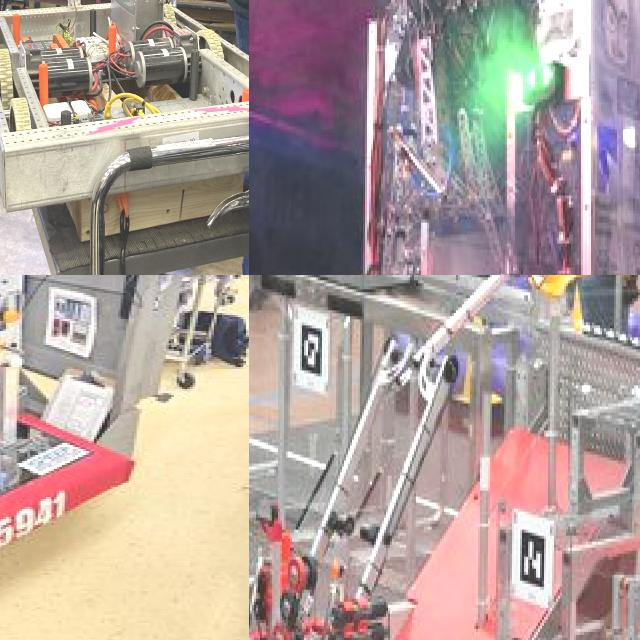FRC-Robots: (249, 275, 621, 640), (249, 0, 640, 275), (0, 275, 174, 603), (0, 0, 249, 204)
